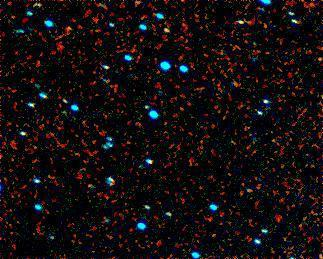star: (53, 11, 83, 41)
